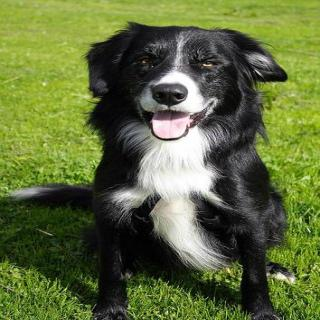dog: (76, 17, 274, 156)
nose: (148, 80, 188, 106)
